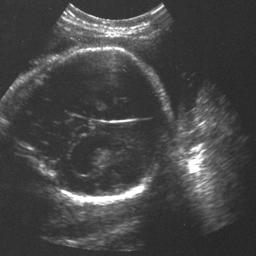abnormal: (0, 48, 177, 208)
